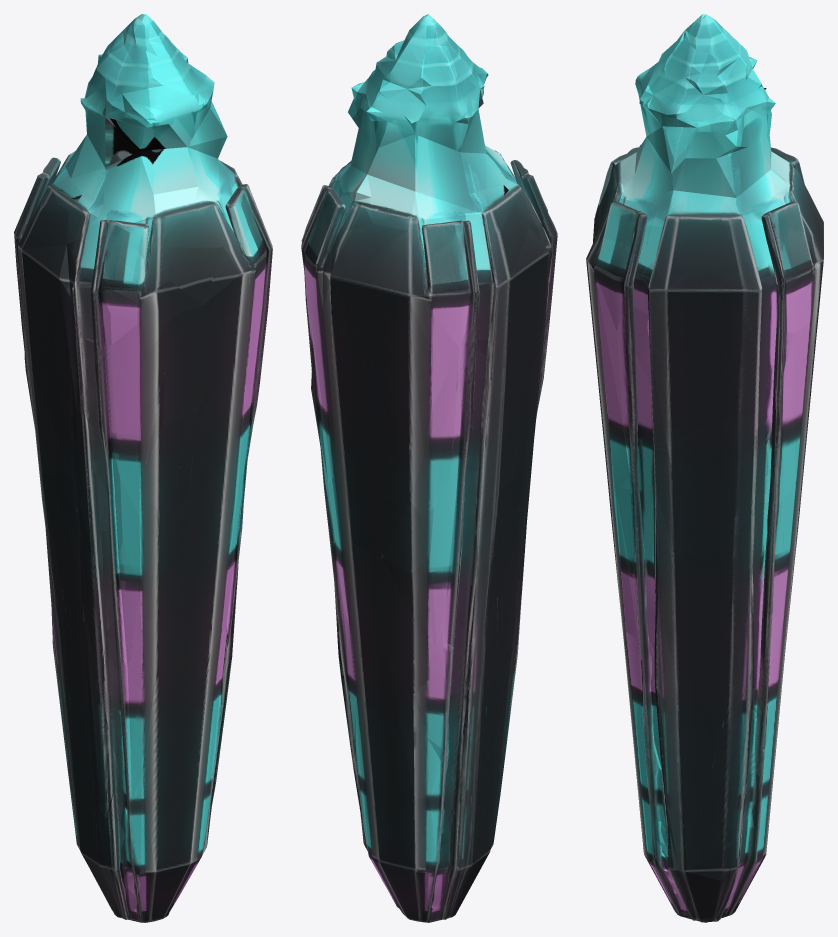
File: beacon.glb
3 renders of one model, left to right at view 1: azimuth 30°, elevation 25°; view 2: azimuth 150°, elevation 25°; view 3: azimuth 270°, elevation 25°, orthographic.
Visible parts, largest first — view 1: output_unwrapped; view 2: output_unwrapped; view 3: output_unwrapped.
Boxes of the visible parts, left/top/right/bottom form: output_unwrapped: left=14, top=14, right=272, bottom=922; output_unwrapped: left=301, top=14, right=557, bottom=922; output_unwrapped: left=586, top=14, right=823, bottom=922.
Bounding box in the file's own units: 0.4481 × 1.89 × 0.4489.
Materials: 1 (1 with a texture image).
